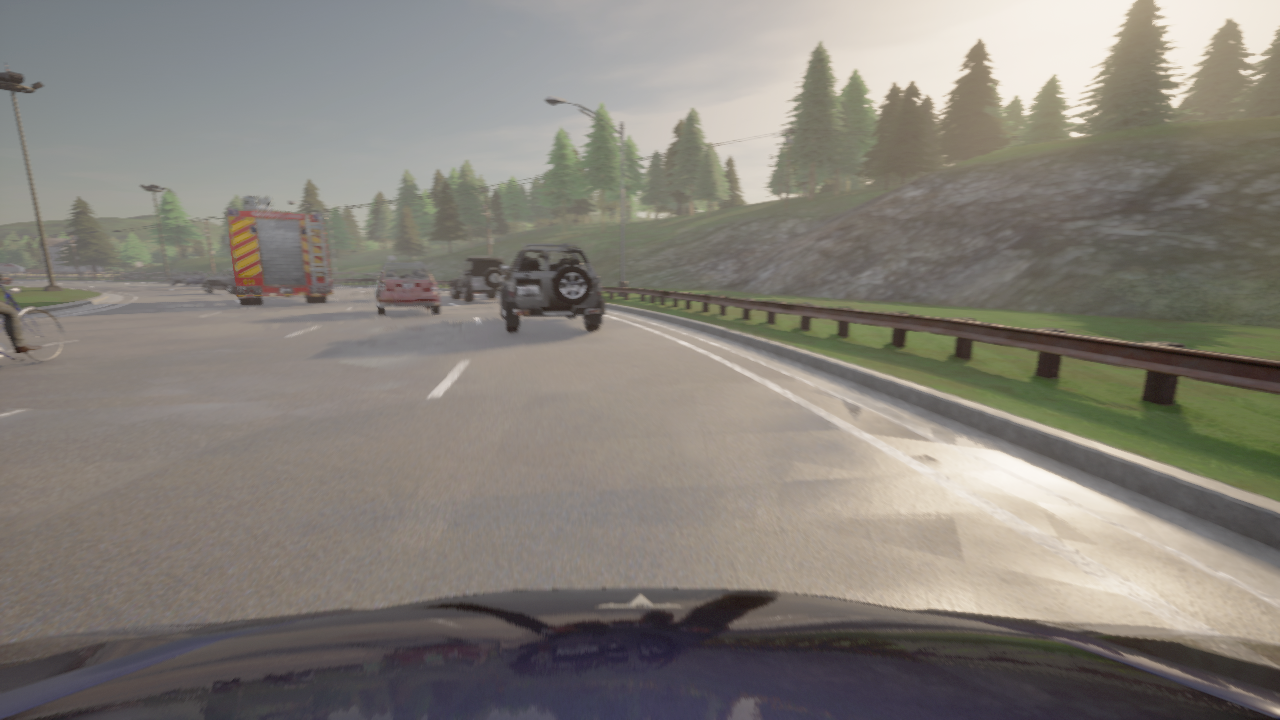cyclist: (0, 588, 1279, 719), (223, 196, 332, 306), (500, 243, 605, 333), (0, 278, 63, 361), (372, 262, 440, 315), (450, 257, 506, 302), (202, 269, 235, 294), (170, 271, 208, 286)
